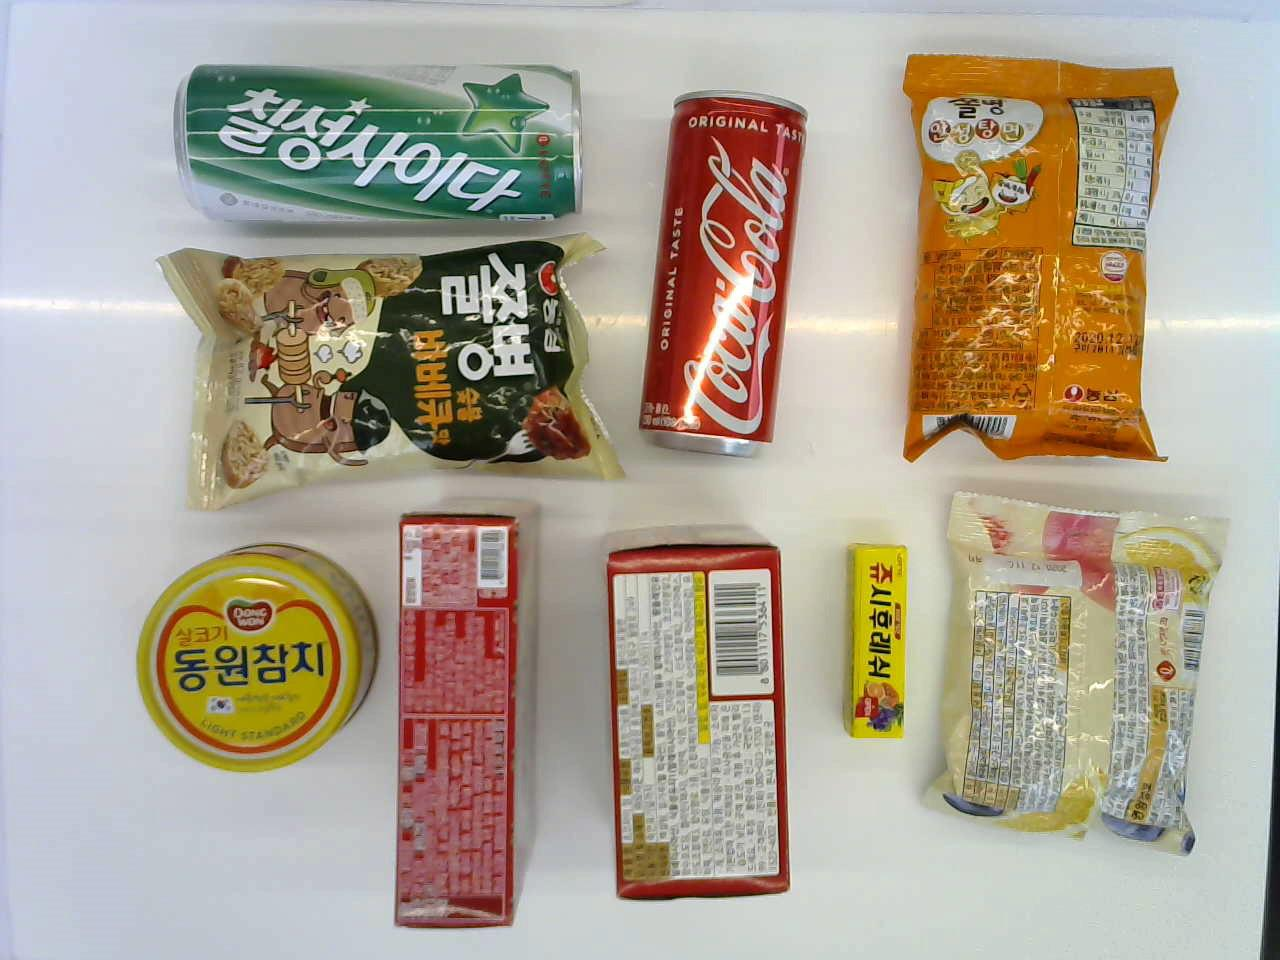chocopie: (582, 521, 815, 912)
cidar: (178, 61, 590, 232)
coke: (657, 87, 801, 452)
couque_white: (388, 501, 531, 936)
gumi_gumi: (930, 484, 1233, 844)
jjolbyung_noodle: (889, 52, 1171, 460)
jjolbyung_ori: (159, 247, 625, 492)
juicyfresh: (840, 542, 910, 734)
tuna: (151, 539, 375, 776)
